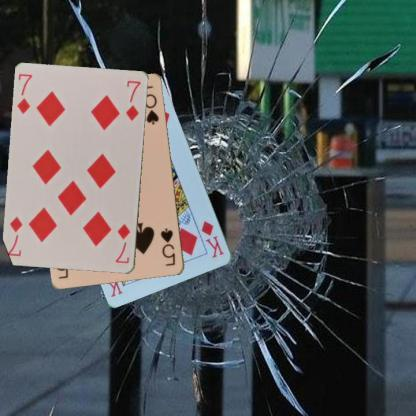5s: (158, 225, 177, 268)
7d: (14, 71, 34, 116), (113, 222, 132, 265)
Kd: (199, 218, 225, 260)
